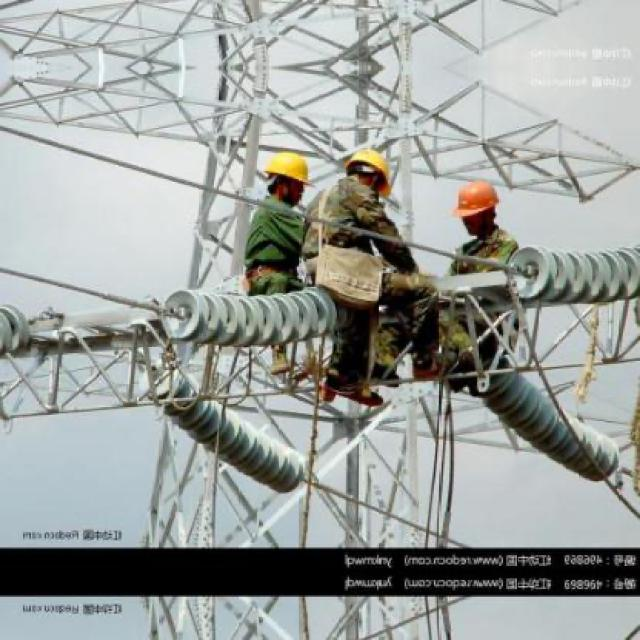con casco: (446, 168, 536, 248), (227, 146, 314, 227), (322, 134, 401, 215)
